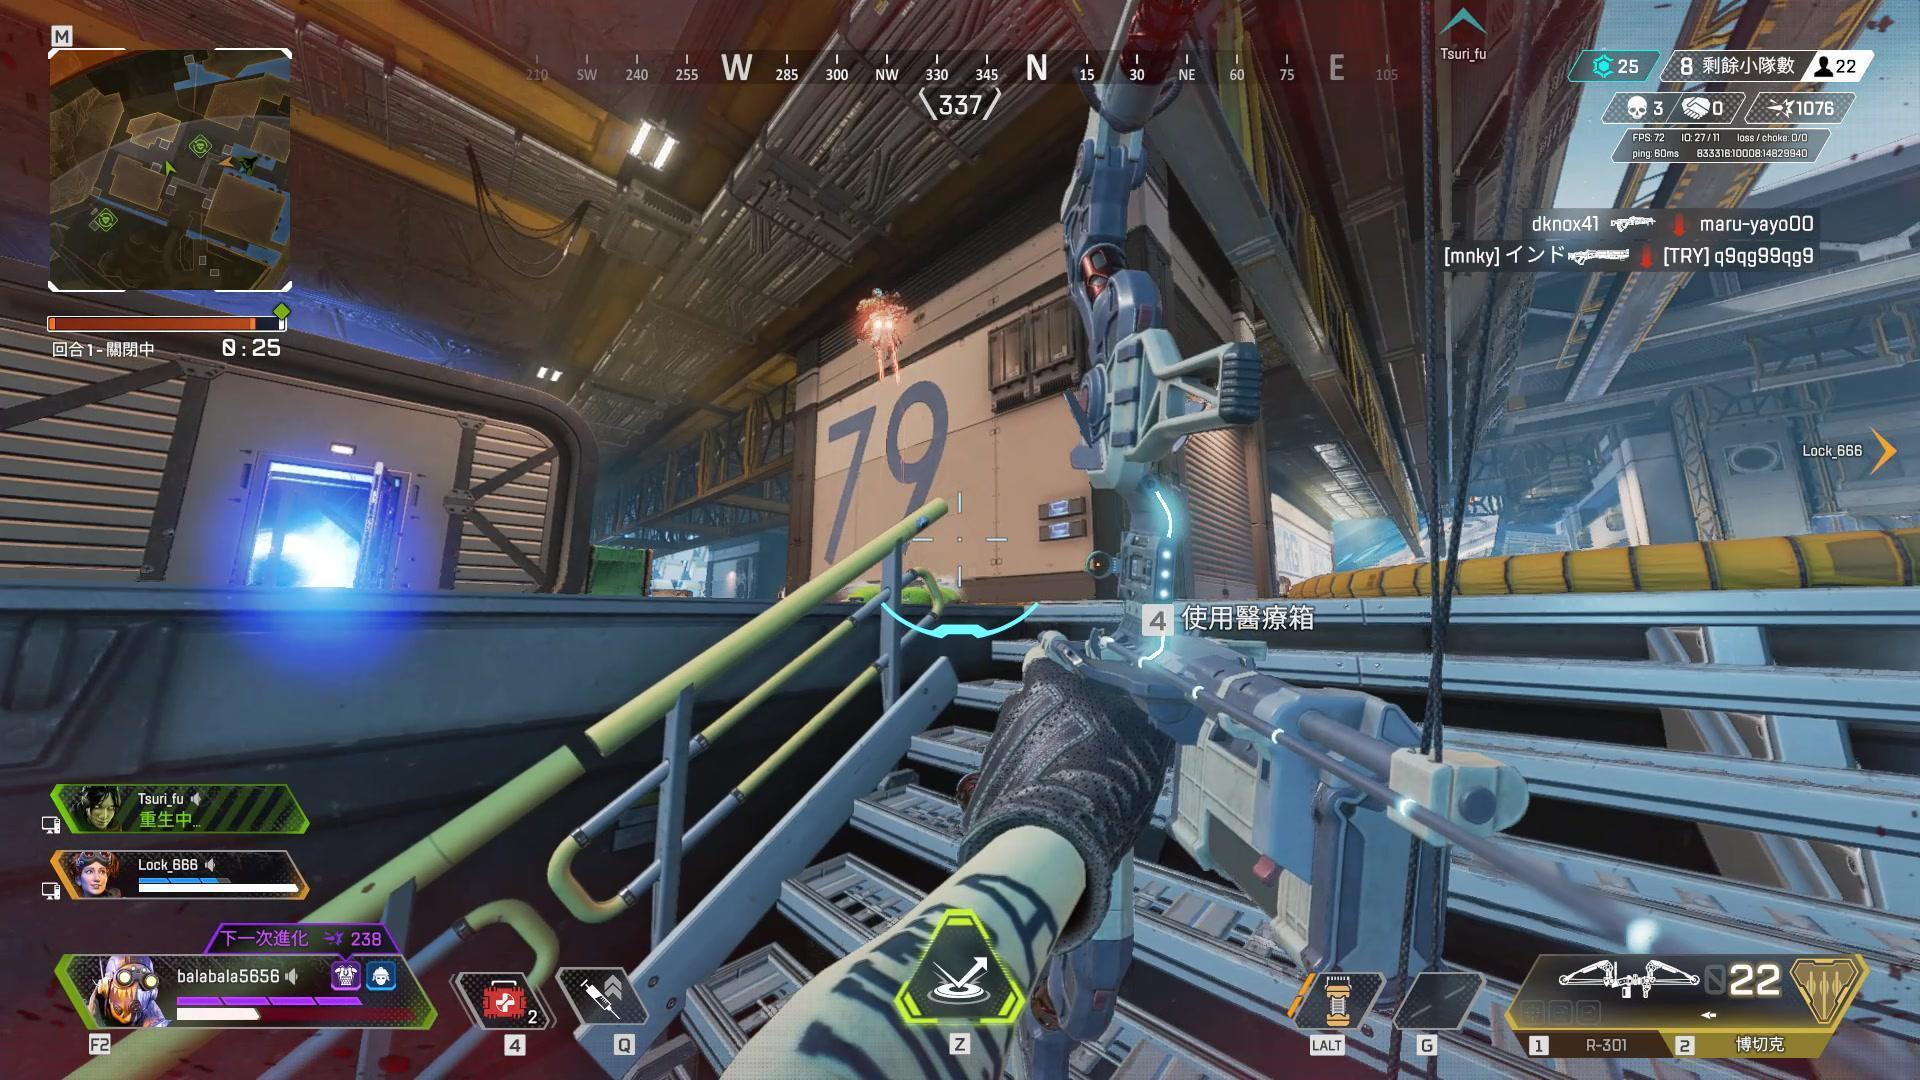avatar: (859, 284, 907, 354)
